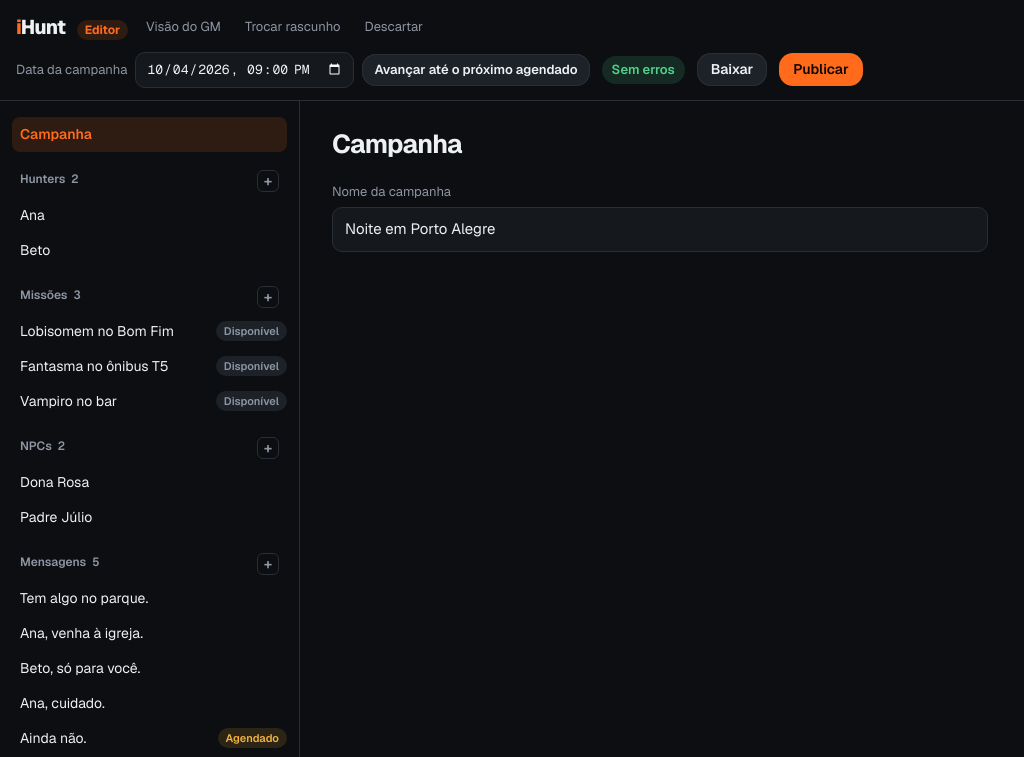
Replacing the Rascunho › discards the draft after confirming
Expected: the field labelled "Nome da campanha" is shown, [332,207,988,252]
What coordinates should you click on to do the following:
click the button "Descartar"
I would click on:
 (394, 27)
Its box is [358,13,429,41].
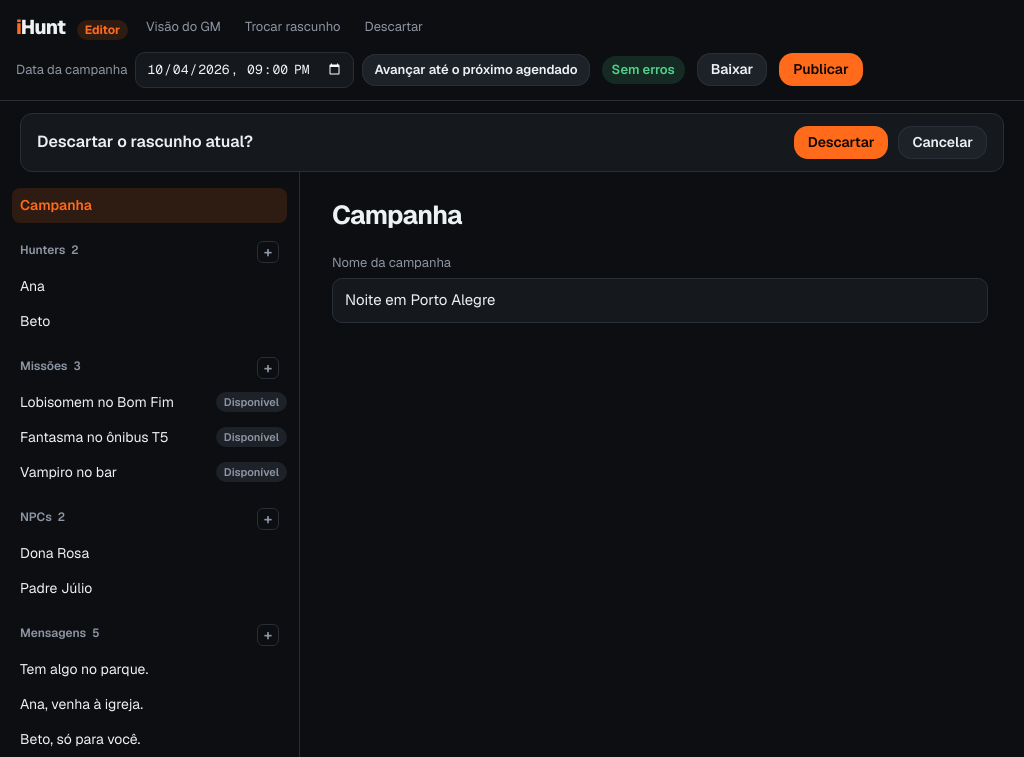
What coordinates should you click on to do the following:
click the button "Descartar" in the row of "Descartar o rascunho atual?"
I would click on:
 (841, 142)
Its box is [794,126,888,158].
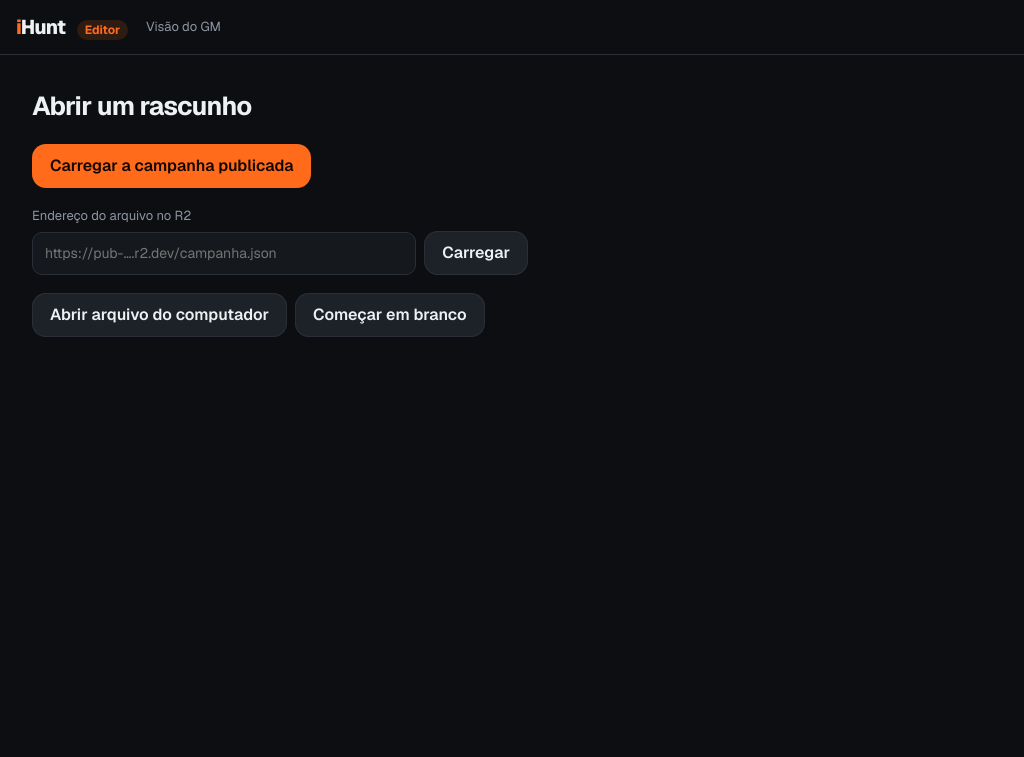
Result: the text labelled "Nome da campanha" is gone
Result: the button "Começar em branco" is shown at [295,292,485,336]
